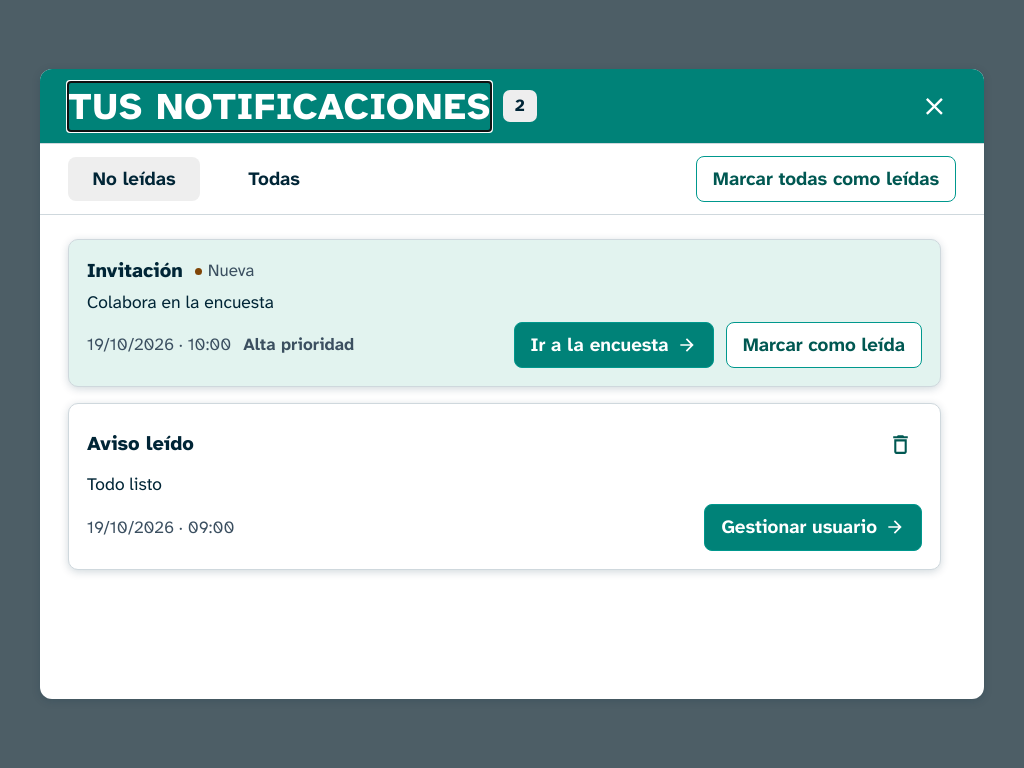
NotificationsModal › carga el listado y marca como leída una notificación
Expected: the heading "Invitación" is shown, x1=87 y1=258 x2=183 y2=284
Click the button "Marcar como leída".
click(824, 345)  # box x1=726 y1=322 x2=922 y2=368
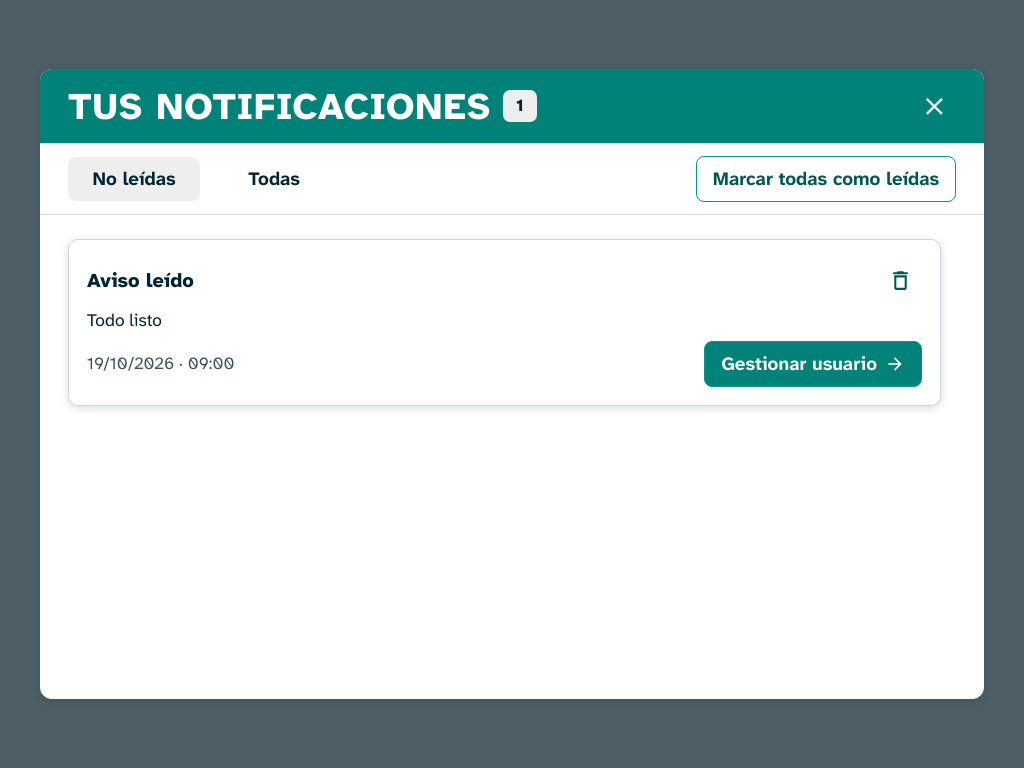
Expected: the heading "Invitación" is gone
